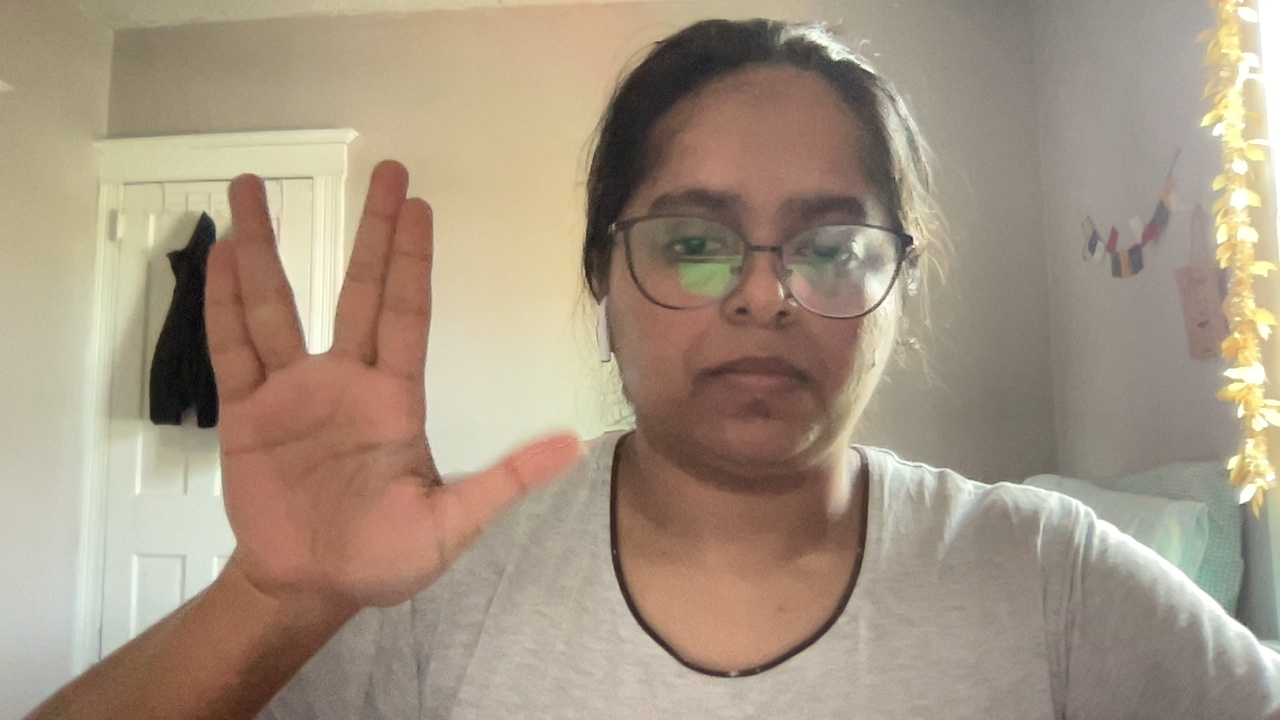LiveLong: (200, 159, 589, 616)
